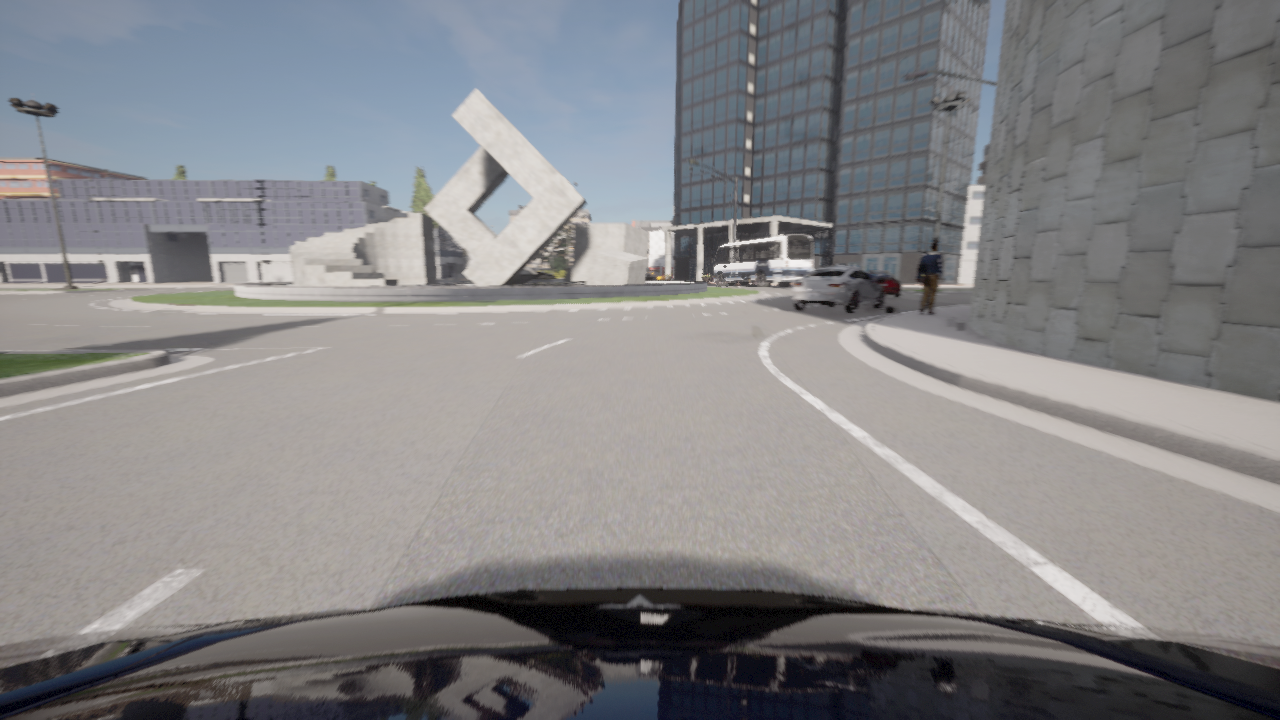cyclist: (0, 588, 1279, 719), (710, 234, 812, 287), (792, 266, 884, 313), (866, 271, 901, 297), (647, 271, 669, 279), (532, 271, 557, 278), (646, 273, 656, 279)
pedestrian: (917, 242, 944, 314)
